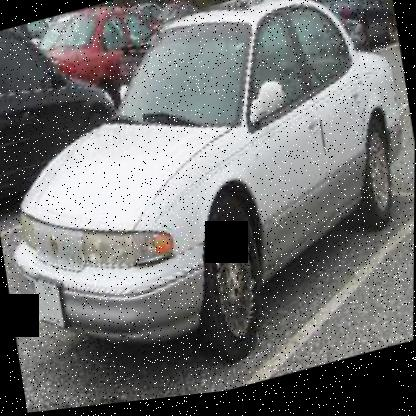not_emergency: (5, 0, 415, 415)
